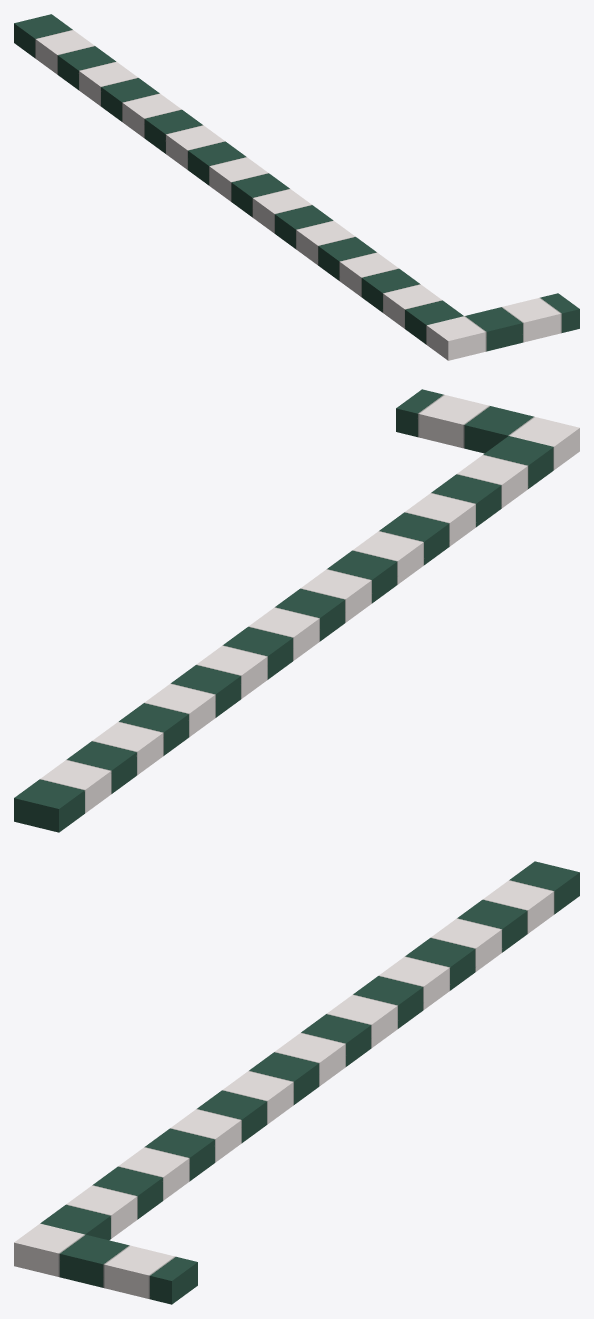
File: Weapon048.fbx
3 renders of one model, top to bottom at view 1: azimuth 30°, elevation 25°; view 2: azimuth 150°, elevation 25°; view 3: azimuth 330°, elevation 25°, orthographic. The views are drawn at different scales.
Visible parts, largest first — view 1: Weapon048; view 2: Weapon048; view 3: Weapon048.
Boxes of the visible parts, x1=… form: Weapon048: x1=14, y1=14, x2=579, y2=360; Weapon048: x1=14, y1=389, x2=579, y2=832; Weapon048: x1=14, y1=861, x2=579, y2=1304.
Size of the model in its own units: 7 by 1 by 40.
